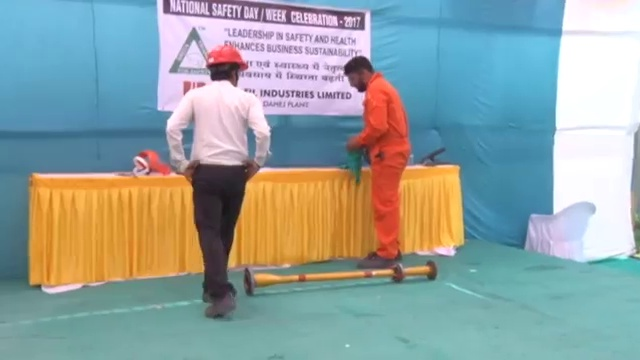helmet: (203, 44, 249, 72)
helmet_off: (344, 55, 379, 94)
helmet_on: (203, 45, 249, 88)
person: (165, 44, 273, 317), (343, 56, 410, 266)
